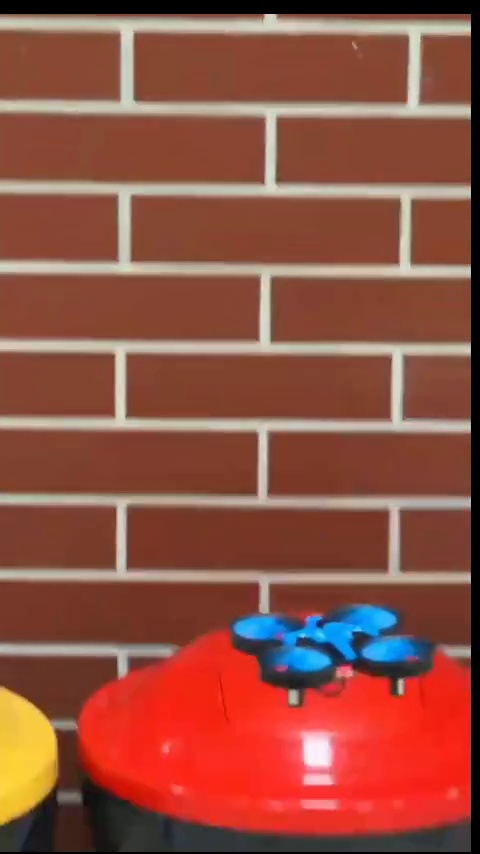drone: (233, 603, 434, 697)
